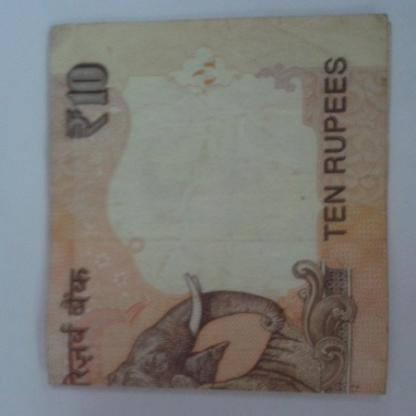Old10Back: (44, 13, 394, 398)
